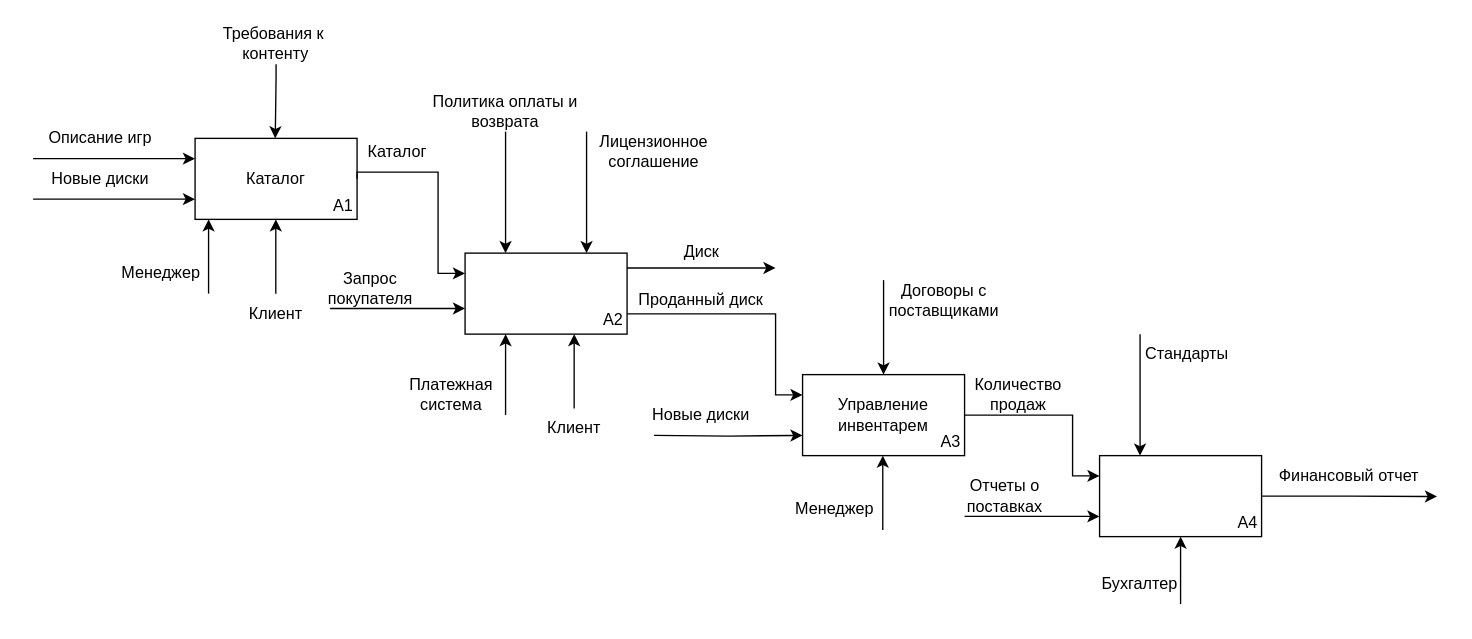
Image size: 1472x639. Some labels were removed from this diagram. The box of each missing label's shape, as (x1, y1, x2, y2) in pixels:
Обработка заказа: (464, 252, 627, 334)
Создание финансового отчета: (1098, 454, 1262, 537)
